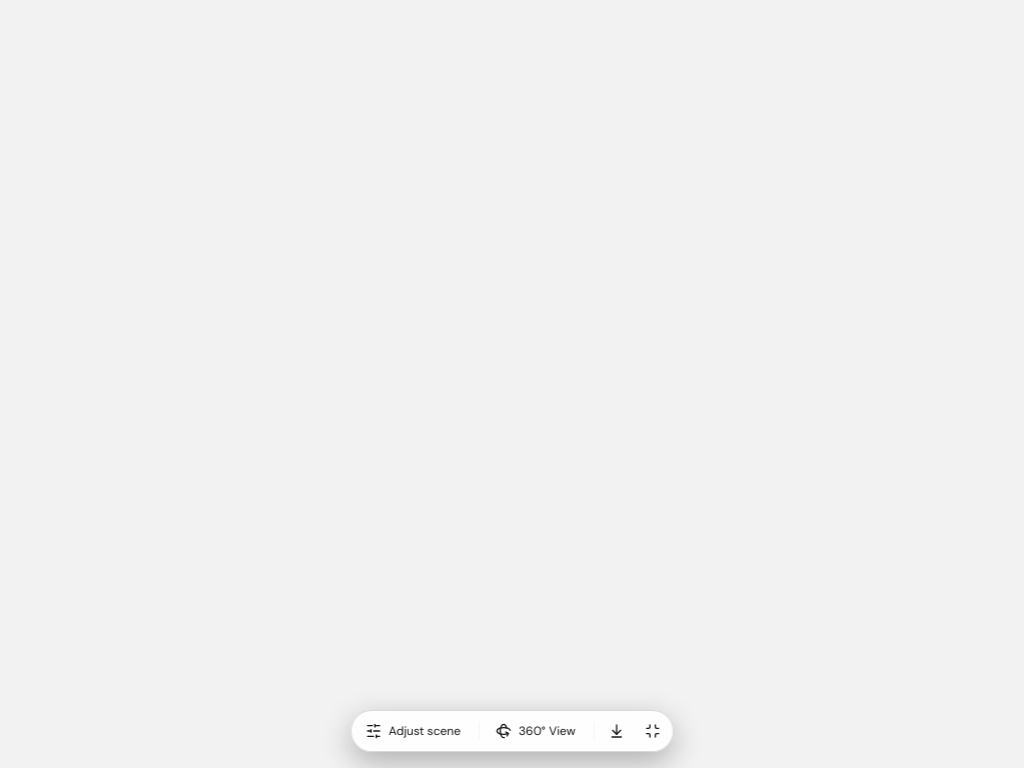
Test: renderer-free toolbar slots and accessibility › keeps the popover within fullscreen and wires exit without rendering dependencies
The image size is (1024, 768).
Click the button "Adjust scene": (414, 731) 355,714 -> 474,748
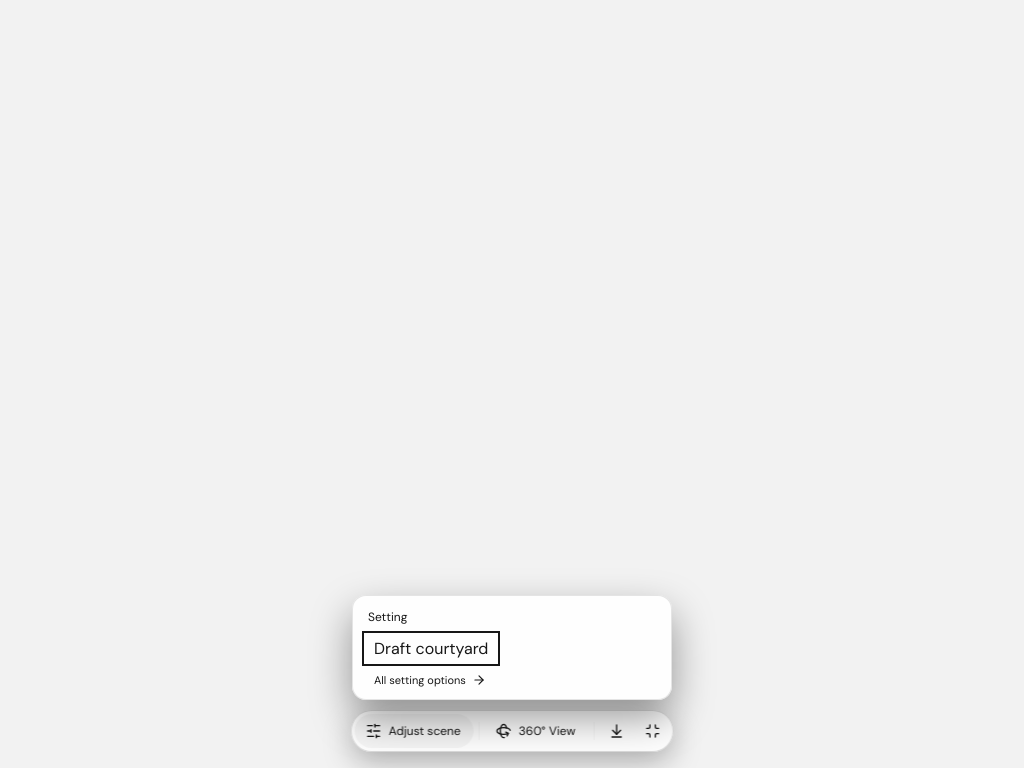
Check: the dialog named "Adjust scene" is shown, box 352,595 -> 672,700
Click the button named "Exit full screen": (652, 731) 635,714 -> 669,748
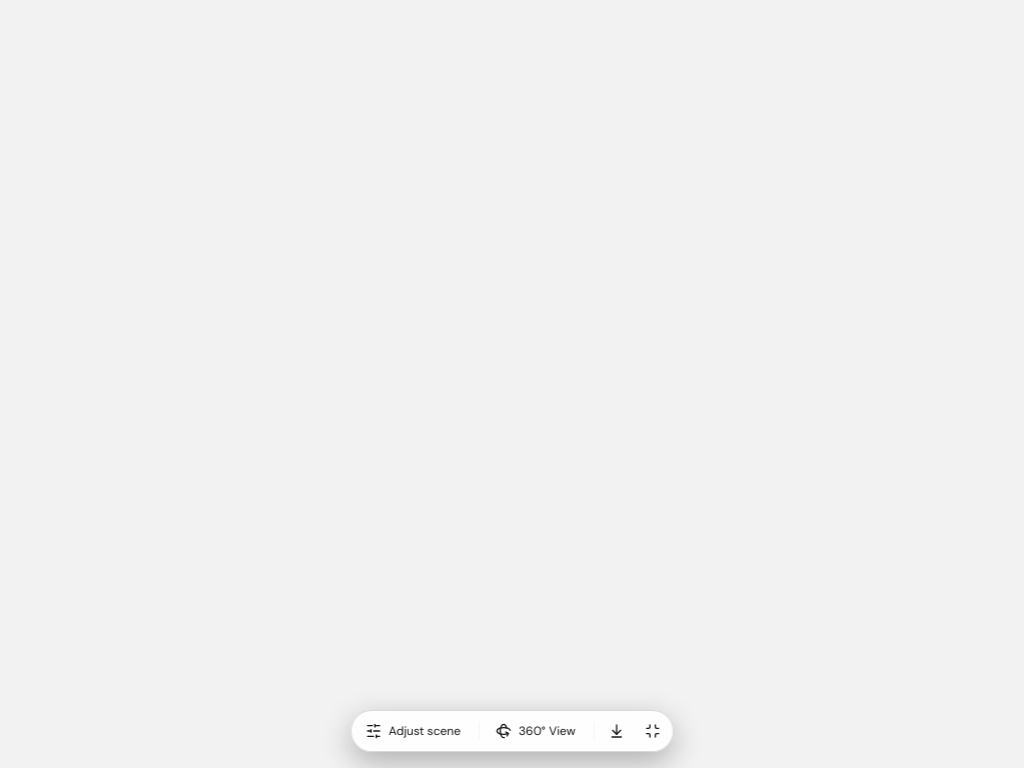
Check: the dialog named "Adjust scene" is gone
